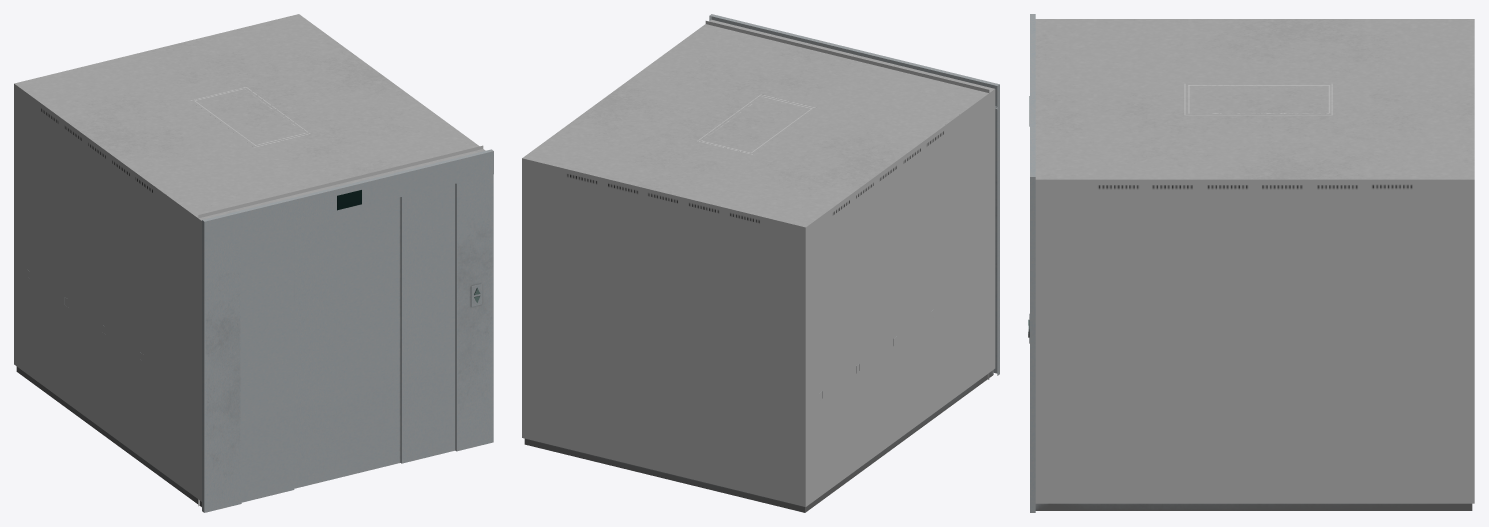
The model's file is ServiceLift.FBX.
The picture shows the model from 3 angles, left to right: view 1: azimuth 30°, elevation 25°; view 2: azimuth 150°, elevation 25°; view 3: azimuth 270°, elevation 25°; orthographic projection. The views are drawn at different scales.
Parts seen in each view (by area): view 1: ServiceLift, Arch_ServiceLift, DoorOutside_R1, DoorOutside_L1, DoorOutside_R2, DoorOutside_L2; view 2: ServiceLift, Arch_ServiceLift; view 3: ServiceLift, Arch_ServiceLift.
Boxes of the visible parts, x1,y1,x2,y2 form: ServiceLift: (14, 14, 485, 506); Arch_ServiceLift: (202, 149, 493, 512); DoorOutside_R1: (400, 184, 455, 463); DoorOutside_L1: (241, 223, 294, 502); DoorOutside_R2: (347, 197, 400, 475); DoorOutside_L2: (294, 210, 346, 488); ServiceLift: (522, 19, 995, 512); Arch_ServiceLift: (709, 14, 999, 375); ServiceLift: (1035, 19, 1474, 510); Arch_ServiceLift: (1029, 14, 1035, 512).
Bounding box in the file's own units: 260 × 250 × 301.
